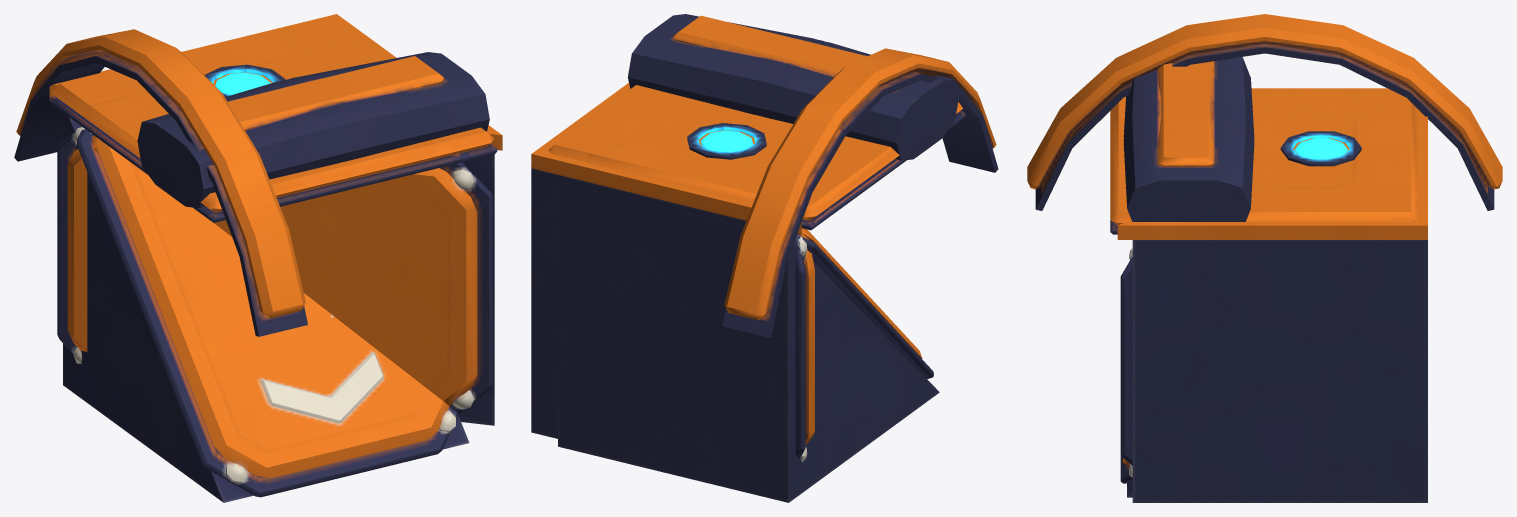
Rendered from R4H_HullKit.glb.
3 renders of one model, left to right at view 1: azimuth 30°, elevation 25°; view 2: azimuth 150°, elevation 25°; view 3: azimuth 270°, elevation 25°, orthographic. The views are drawn at different scales.
Visible parts, largest first — view 1: ramp, cheek, lip, nose_1, nose_2, nose_0, plate_08, plate_04, nose_3, plate_02, plate_09, plate_06 (+10 smaller); view 2: cheek, ramp, lip, plate_06, nose_2, nose_1, plate_13, nose_3, plate_04, nose_0, plate_01, plate_03 (+9 smaller); view 3: cheek, lip, nose_1, plate_07, plate_05, nose_0, plate_08, plate_15, nose_2, plate_06, plate_00, plate_02 (+5 smaller).
Part boxes in pixels (x1,y1,x2,y2): ramp: [63, 113, 469, 502]; cheek: [49, 14, 502, 425]; lip: [14, 29, 307, 336]; nose_1: [228, 52, 489, 159]; nose_2: [137, 65, 423, 208]; nose_0: [204, 61, 423, 129]; plate_08: [138, 97, 470, 205]; plate_04: [97, 27, 346, 117]; nose_3: [228, 56, 444, 162]; plate_02: [67, 49, 344, 209]; plate_09: [270, 34, 496, 206]; plate_06: [51, 27, 347, 208]; cheek: [531, 83, 814, 494]; ramp: [558, 182, 939, 502]; lip: [722, 48, 998, 337]; plate_06: [587, 94, 900, 230]; nose_2: [694, 20, 958, 160]; nose_1: [627, 14, 866, 115]; plate_13: [555, 85, 848, 195]; nose_3: [673, 16, 865, 117]; plate_04: [585, 94, 755, 202]; nose_0: [687, 20, 864, 159]; plate_01: [576, 85, 846, 175]; plate_03: [585, 85, 893, 204]; cheek: [1117, 110, 1427, 502]; lip: [1027, 14, 1502, 210]; nose_1: [1123, 64, 1254, 221]; plate_07: [1251, 89, 1418, 216]; plate_05: [1246, 106, 1418, 221]; nose_0: [1158, 64, 1361, 166]; plate_08: [1110, 108, 1370, 200]; plate_15: [1110, 89, 1411, 234]; nose_2: [1123, 57, 1254, 151]; plate_06: [1251, 88, 1418, 186]; plate_00: [1251, 109, 1371, 194]; plate_02: [1252, 88, 1371, 188].
Size of the model in its own units: 0.565 by 0.7265 by 0.8451.
1 material, 1 textured.
